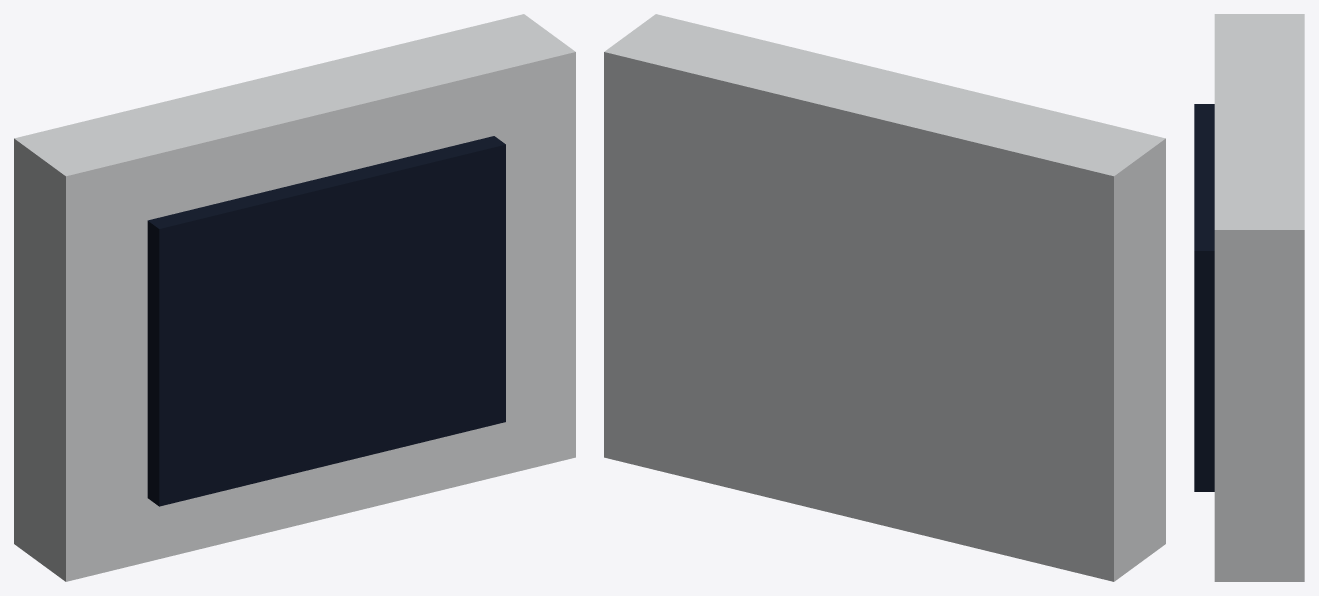
Rendered from term-smart-thermostat.glb.
3 views of the same model, side by side, from view 1: azimuth 30°, elevation 25°; view 2: azimuth 150°, elevation 25°; view 3: azimuth 270°, elevation 25° (orthographic). The views are drawn at different scales.
Parts seen in each view (by area): view 1: hvac-terminal-smart-thermostat; view 2: hvac-terminal-smart-thermostat; view 3: hvac-terminal-smart-thermostat.
Boxes of the visible parts, x1,y1,x2,y2 form: hvac-terminal-smart-thermostat: (14,14,575,581); hvac-terminal-smart-thermostat: (604,14,1165,581); hvac-terminal-smart-thermostat: (1194,14,1304,581).
Bounding box in the file's own units: 0.125 × 0.095 × 0.027.
